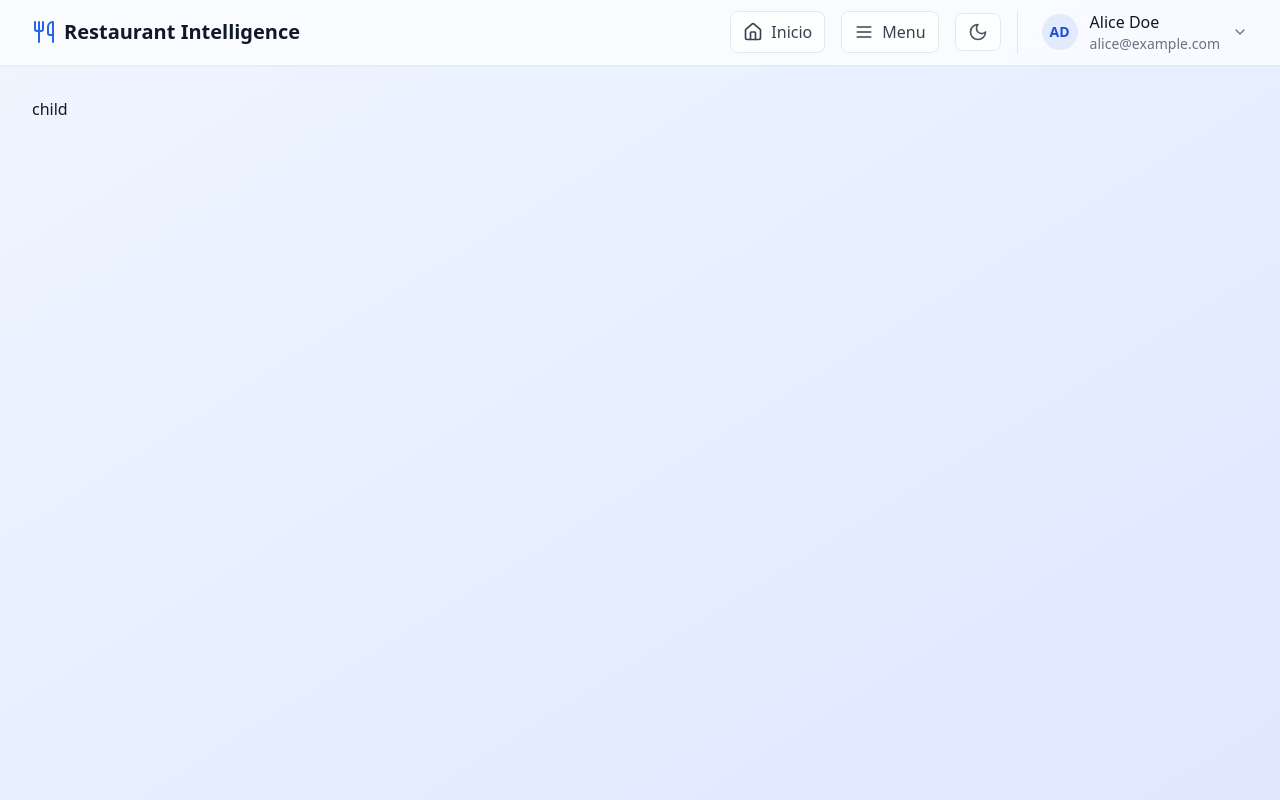
Test: Layout help center modal › closes help modal by backdrop click and footer button
The width and height of the screenshot is (1280, 800).
Click the button "AD Alice Doe alice@example.com". click: (1145, 32)
box: [1042,10,1248,54]
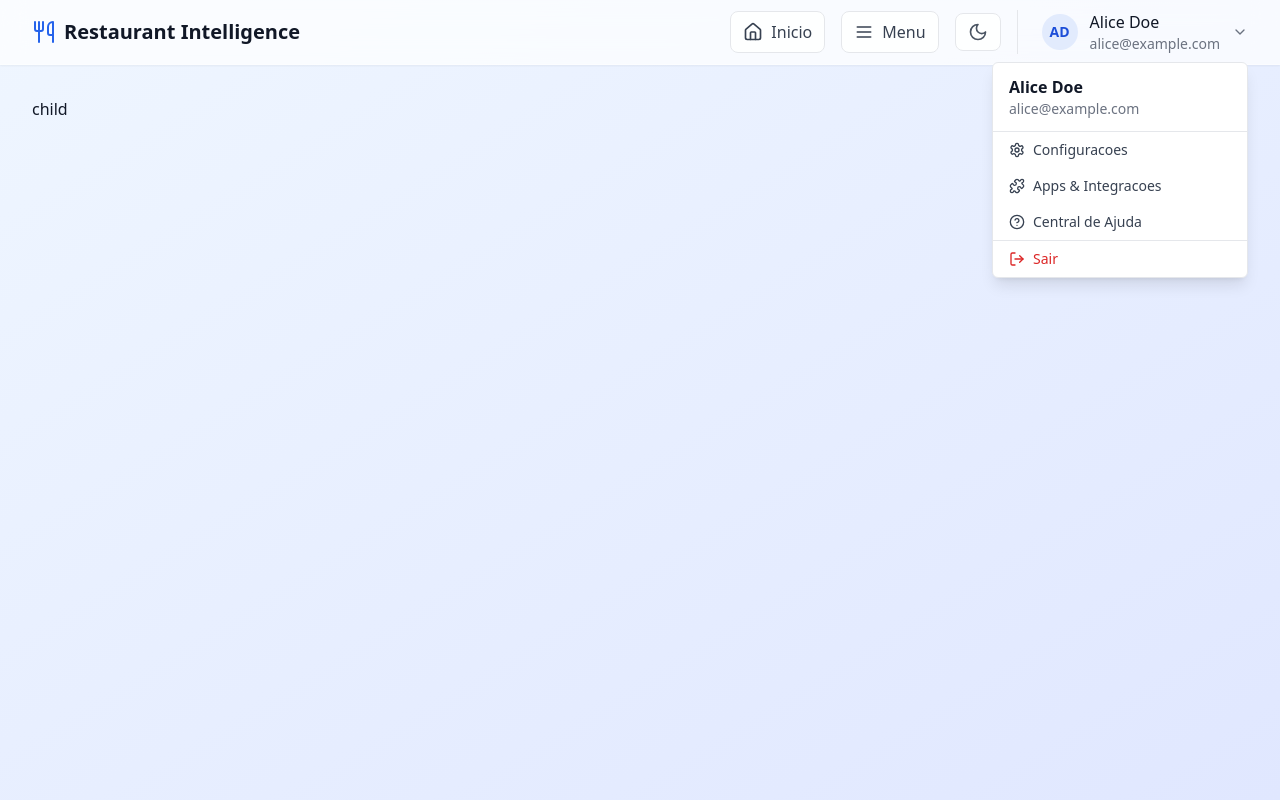
Click the menu item "Central de Ajuda". click: (1120, 222)
box: [993,204,1247,240]
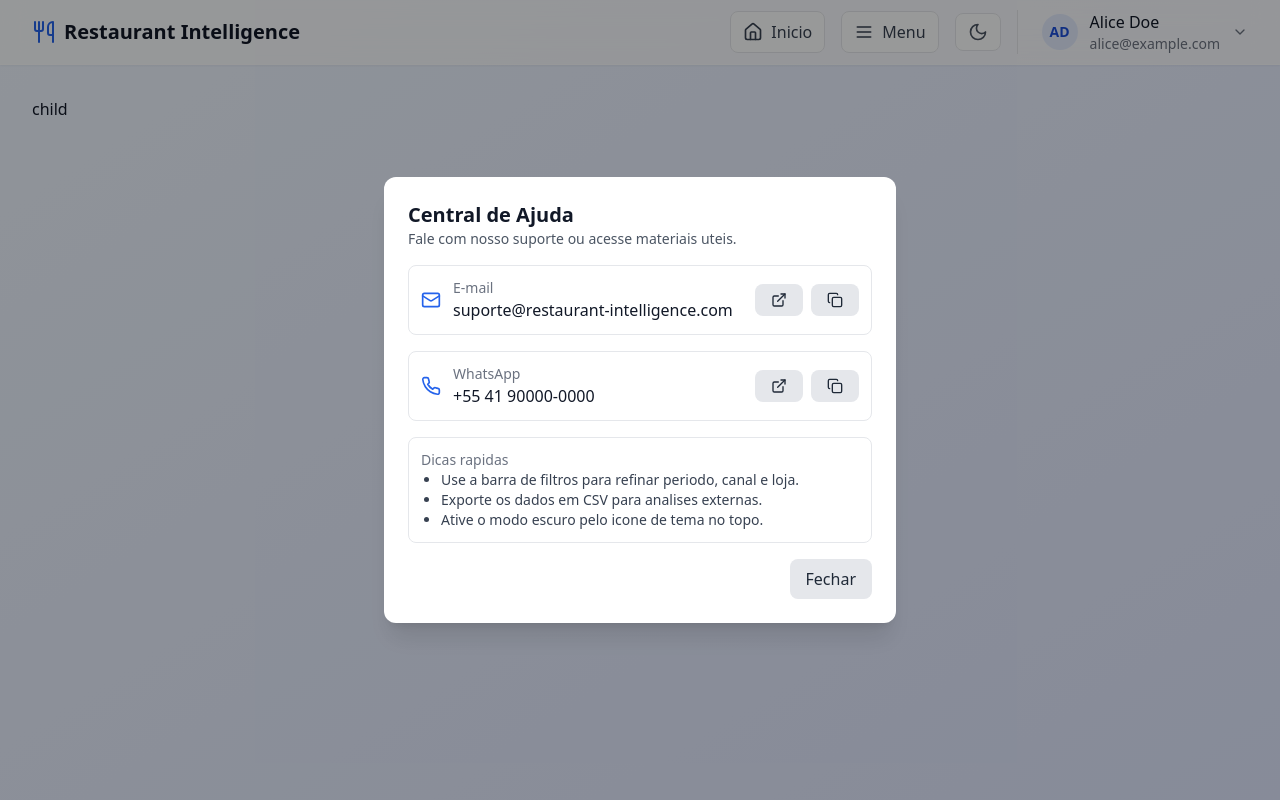
Click the dialog "Central de Ajuda". click: (77, 400)
box: [0,0,1279,799]
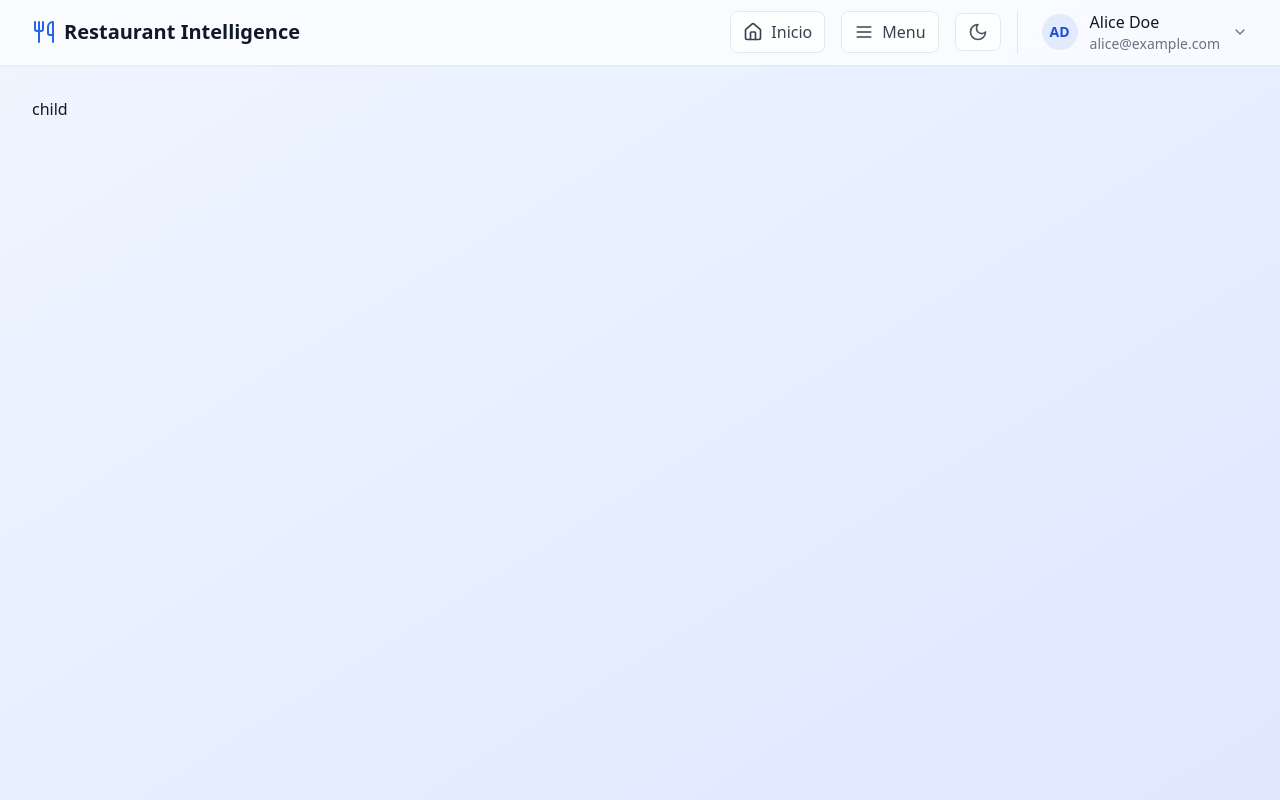
Now the heading "Central de Ajuda" is gone
Click the button "AD Alice Doe alice@example.com". click: (1145, 32)
box: [1042,10,1248,54]
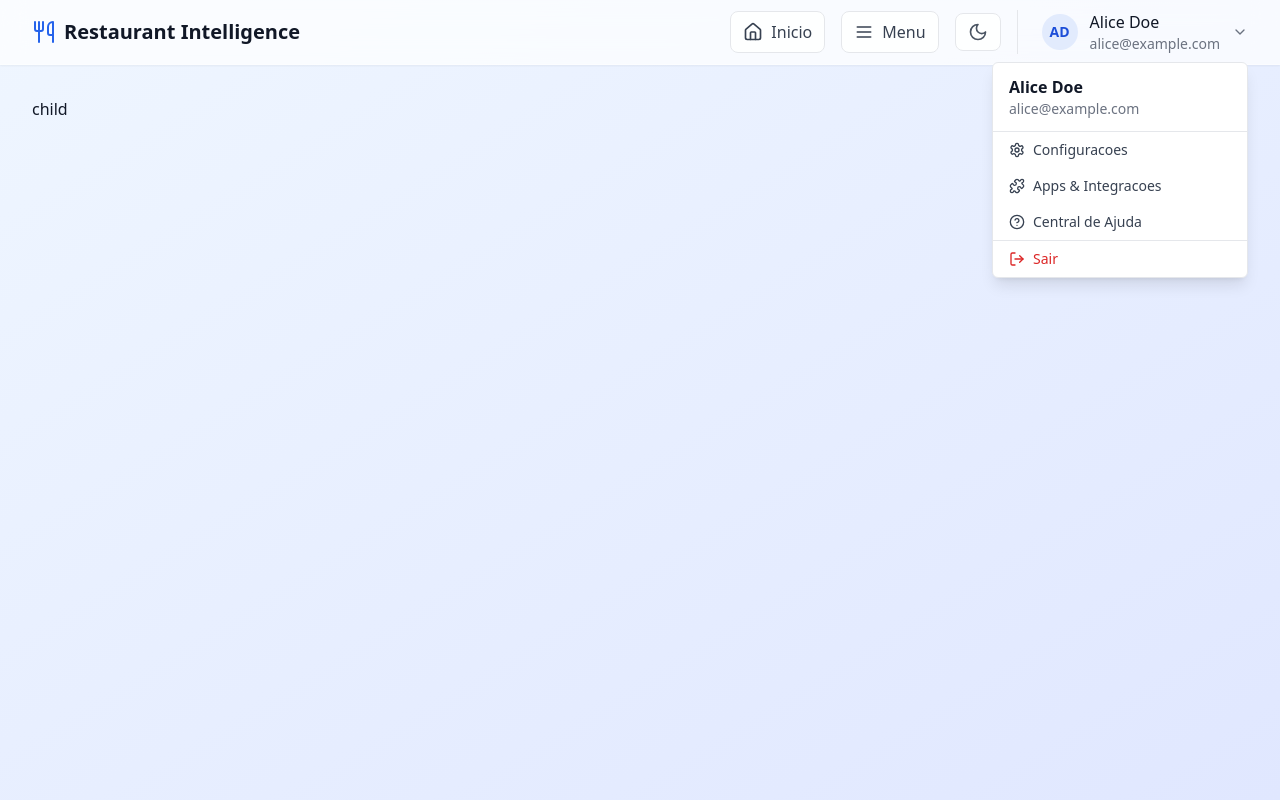
Click the menu item "Central de Ajuda". click: (1120, 222)
box: [993,204,1247,240]
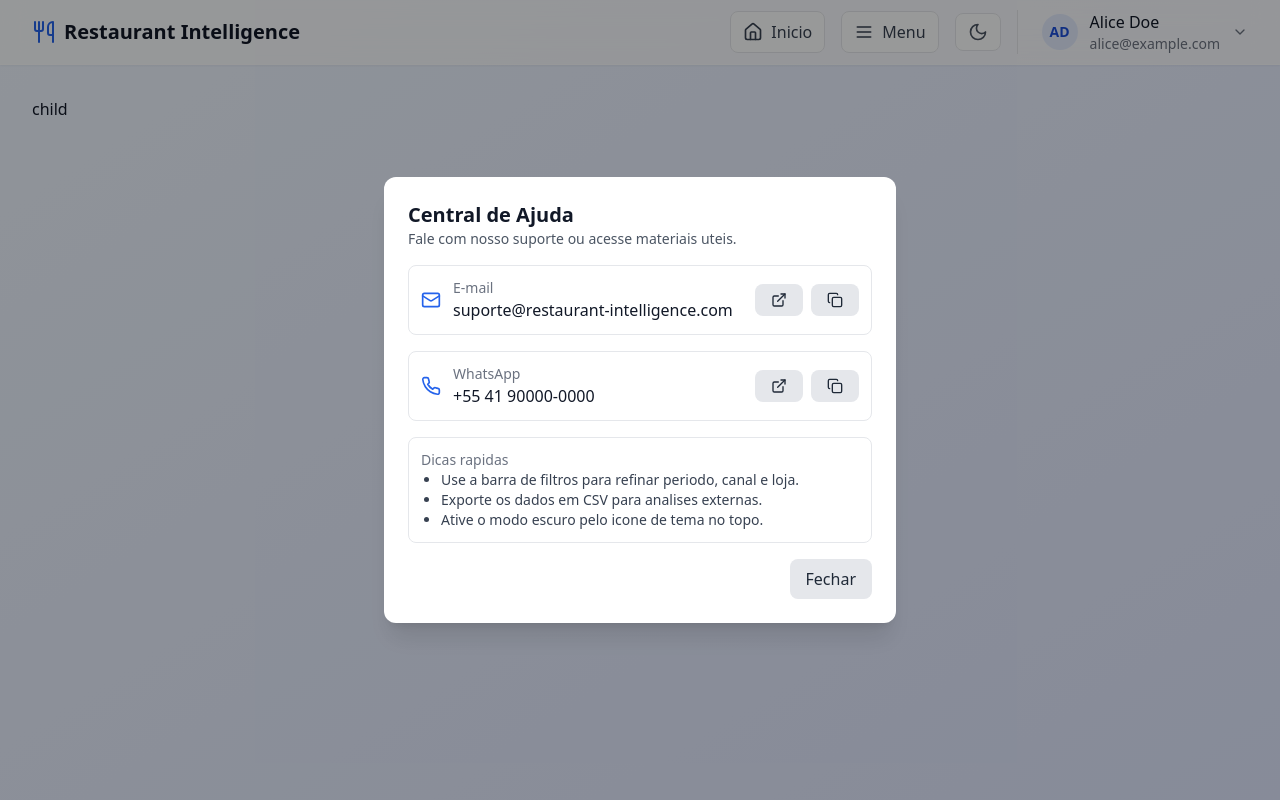
Click the button with aria-label "Fechar ajuda". click: (831, 579)
box: [790,559,872,599]
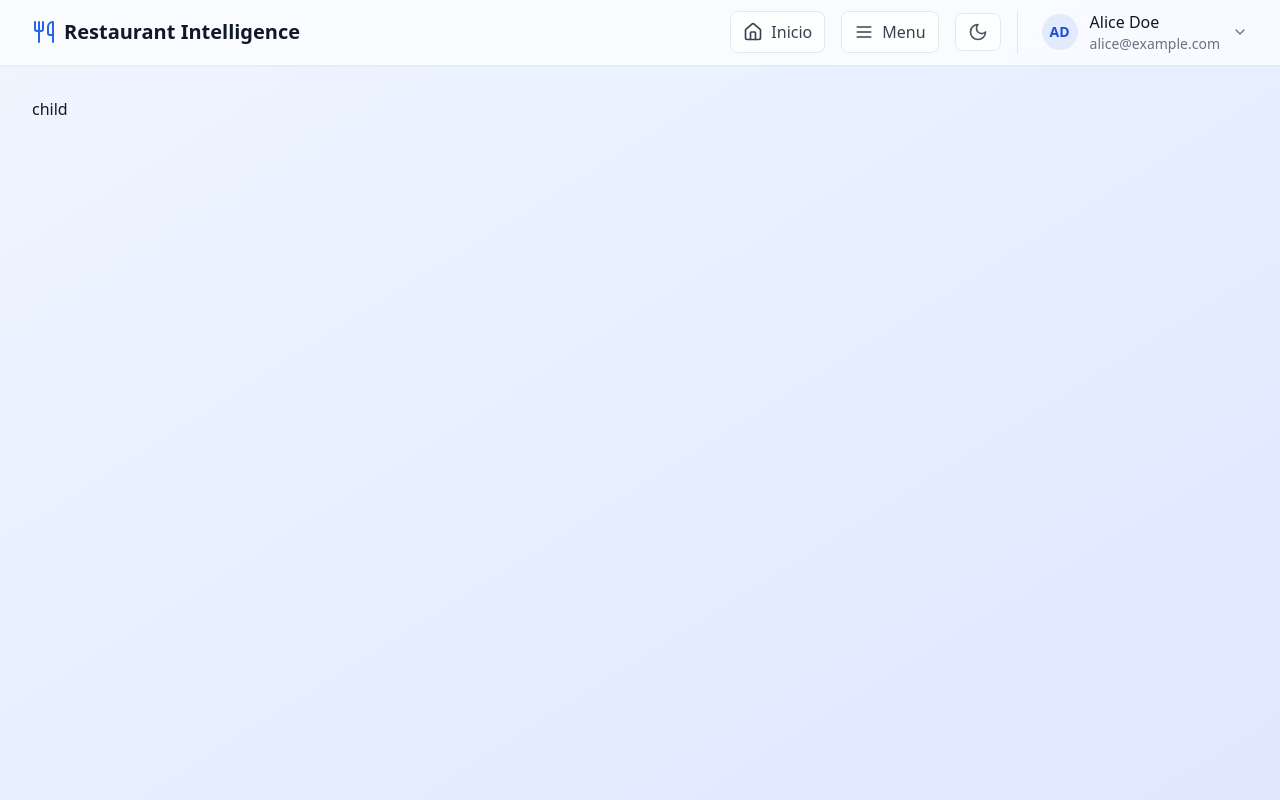
Now the heading "Central de Ajuda" is gone
